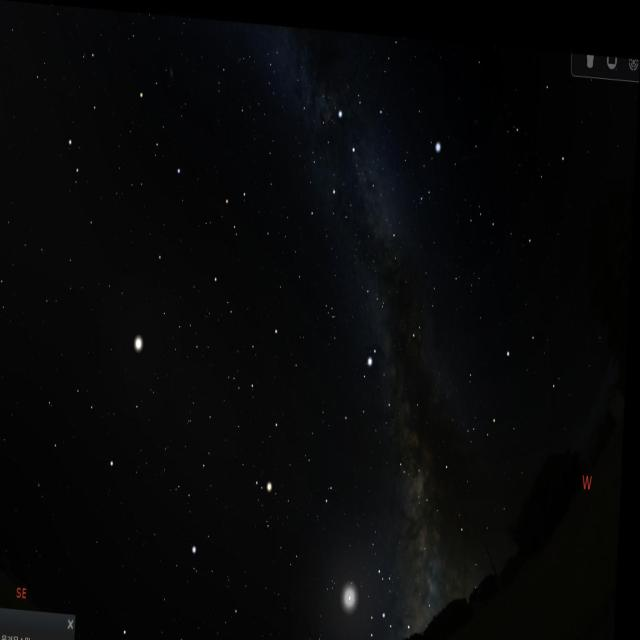aquila: (338, 329, 422, 471)
cygnus: (326, 84, 410, 241)
lyra: (417, 116, 450, 213)
moon: (333, 558, 374, 624)
